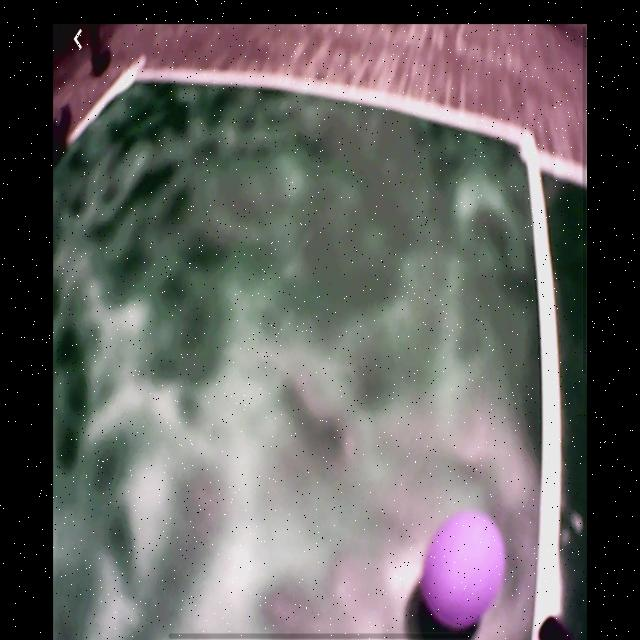ball: (419, 510, 507, 631)
